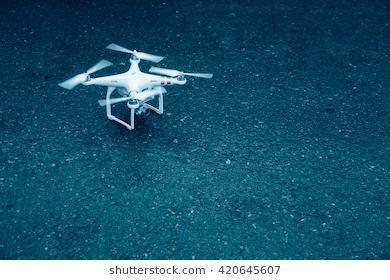drone: (60, 42, 214, 131)
